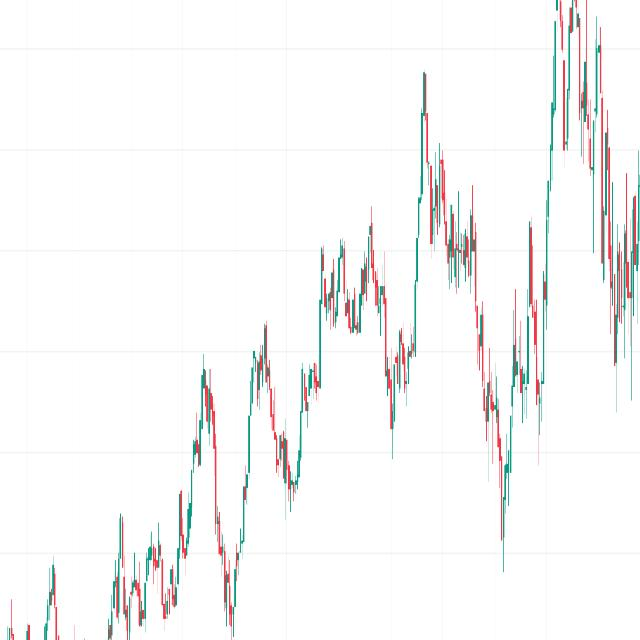Triple-Top: (314, 236, 393, 348)
